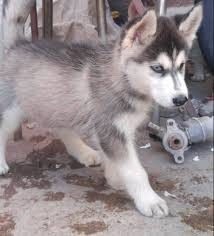husky: (83, 1, 207, 139)
